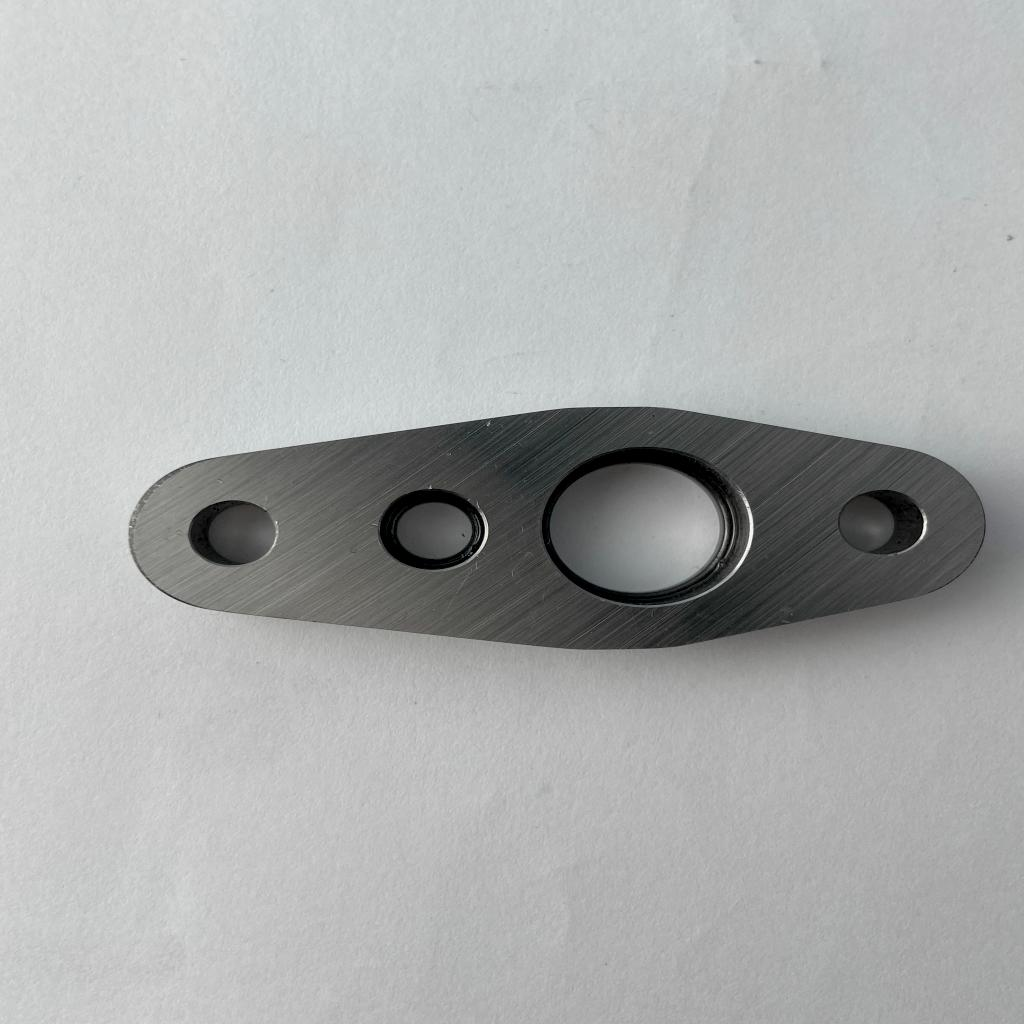chap: (366, 521, 381, 530), (426, 482, 436, 492), (215, 476, 225, 485), (484, 420, 495, 428)
